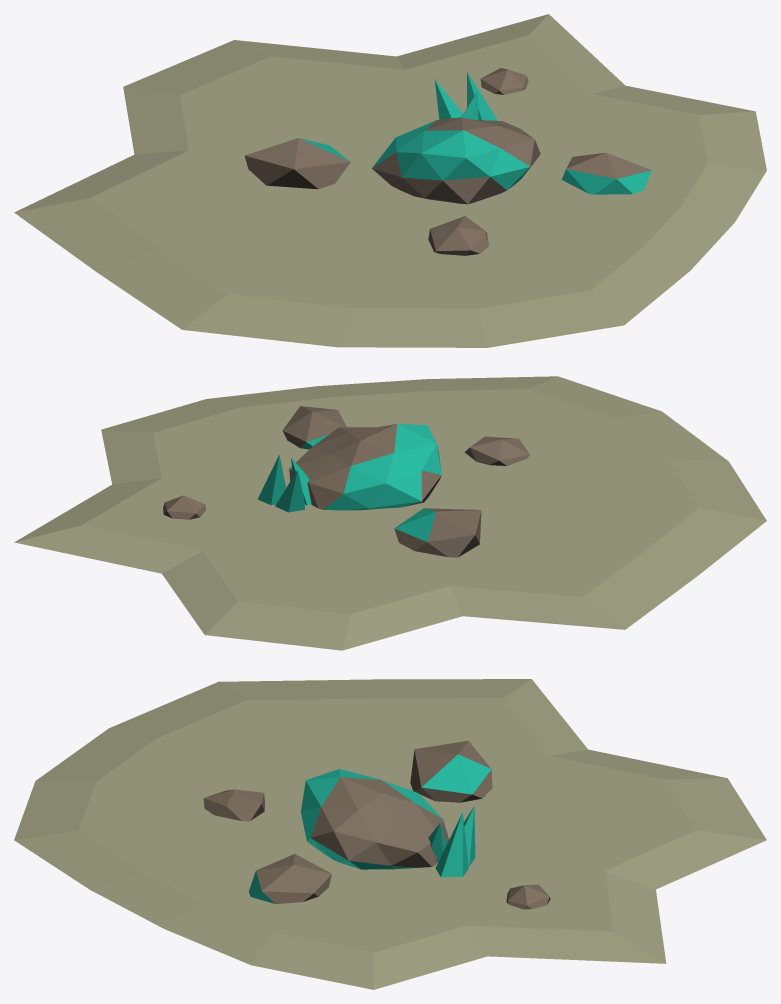
Rendered from ore_copper_depleted.glb.
The picture shows the model from 3 angles, top to bottom: view 1: azimuth 30°, elevation 25°; view 2: azimuth 150°, elevation 25°; view 3: azimuth 270°, elevation 25°; orthographic projection. The views are drawn at different scales.
Visible parts, largest first — view 1: ore_copper_depleted; view 2: ore_copper_depleted; view 3: ore_copper_depleted.
Part boxes in pixels (x1,y1,x2,y2): ore_copper_depleted: [14, 14, 766, 347]; ore_copper_depleted: [14, 376, 766, 650]; ore_copper_depleted: [14, 679, 766, 989].
Size of the model in its own units: 2.66 by 0.2747 by 2.73.
